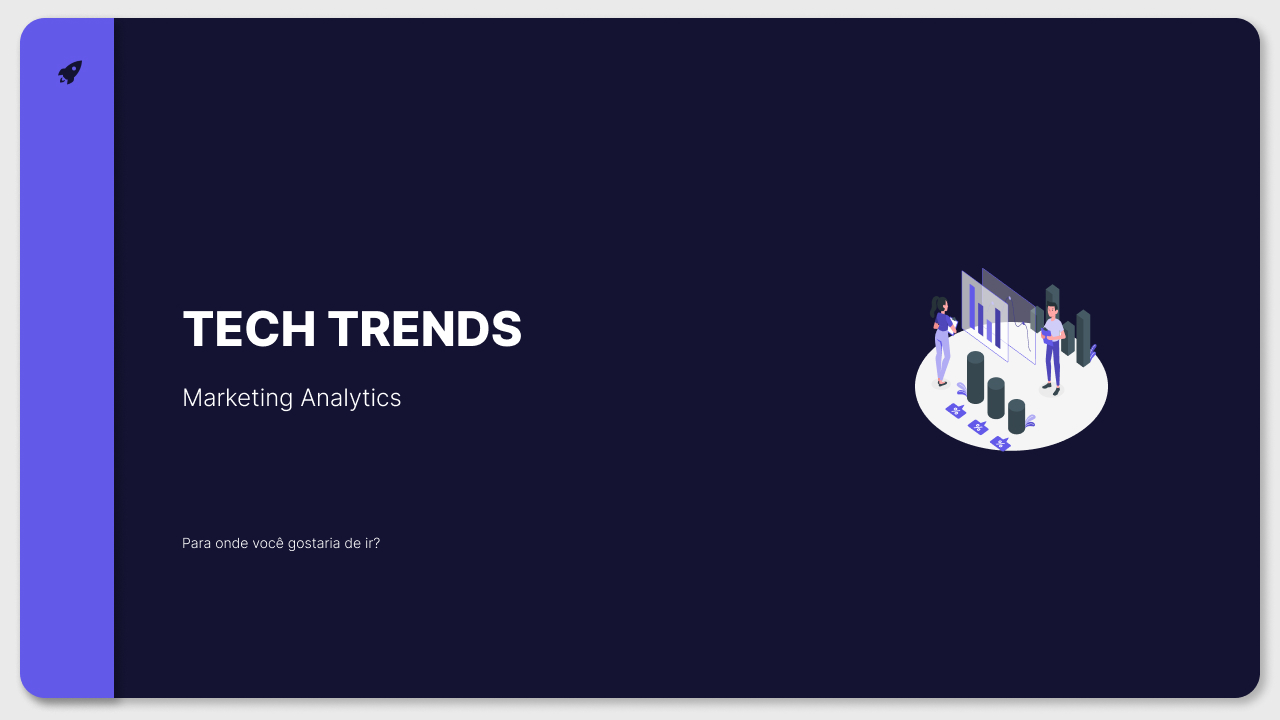

The page's visual inventory and layout, read from the dashboard file:
{"tool":"powerbi","page":{"name":"Home","canvas":[1280,720],"ordinal":0},"visuals":[{"type":"pageNavigator","box":[162.7,596.1,599.6,33.7],"z":0}]}

Visuals, with their boxes in screenshot pixels (x1, y1, x2, y2), scaled from the page's 1280x720 canvas onto the 1280x720 screenshot:
pageNavigator: [163, 596, 762, 630]
